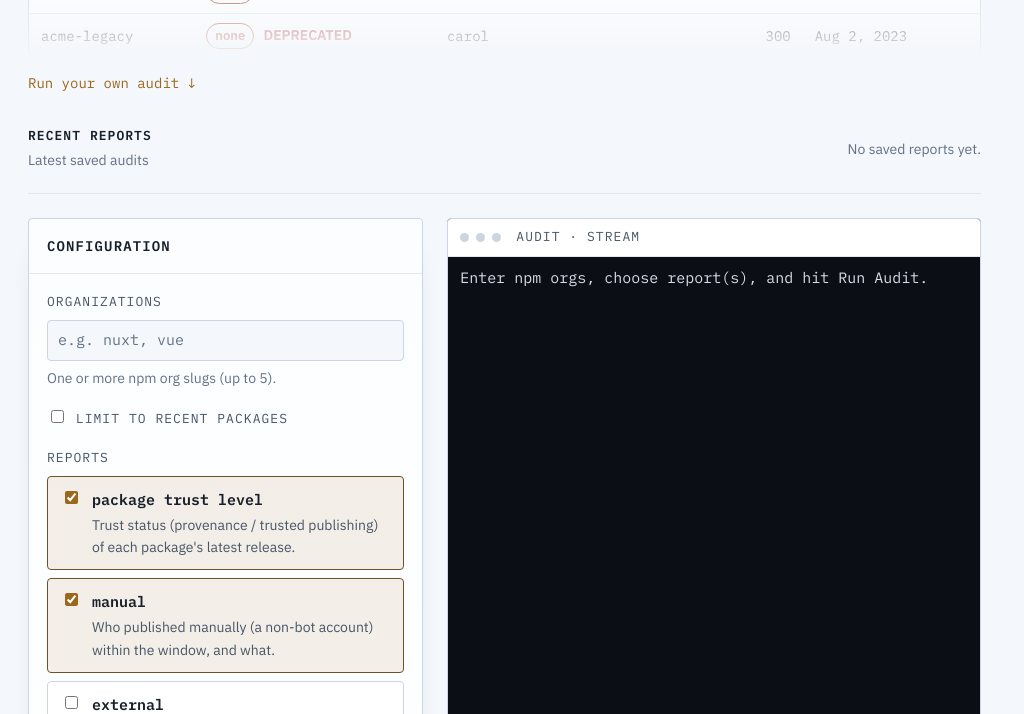
Test case: App › surfaces a server-side save failure inline
The width and height of the screenshot is (1024, 714).
(page scrolled)
Step 1. Type "netlify" into the field with placeholder "e.g. nuxt, vue" → [226, 340], box [56,327,395,354]
Then press Enter
(page scrolled)
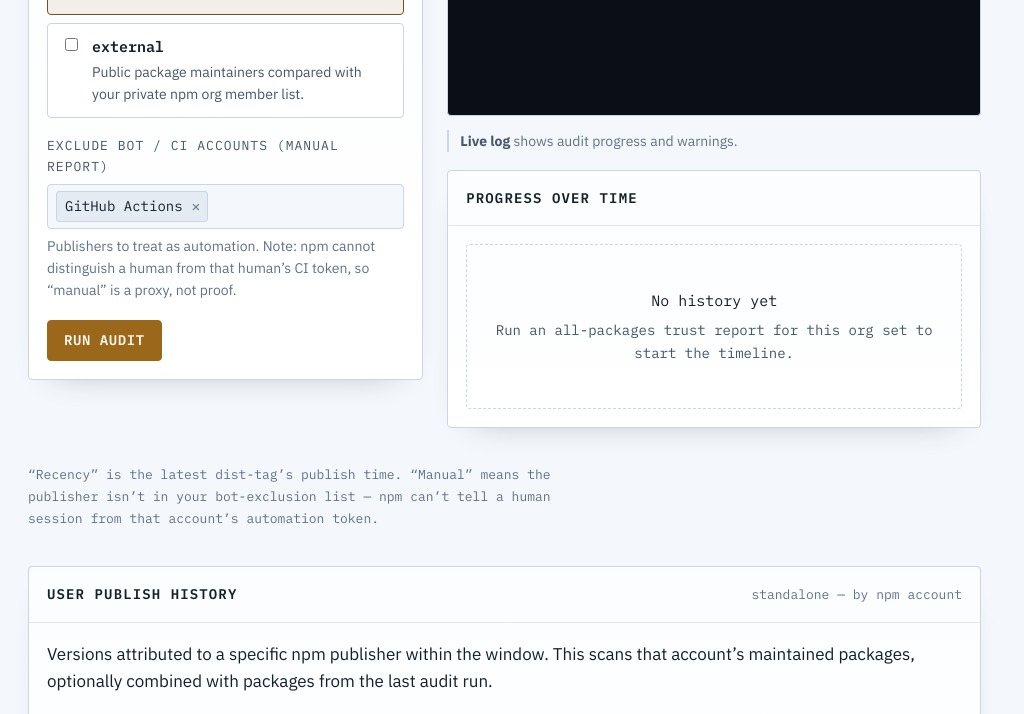
Step 2. Click the button "Run audit" → [104, 341], box [47,320,162,361]
(page scrolled)
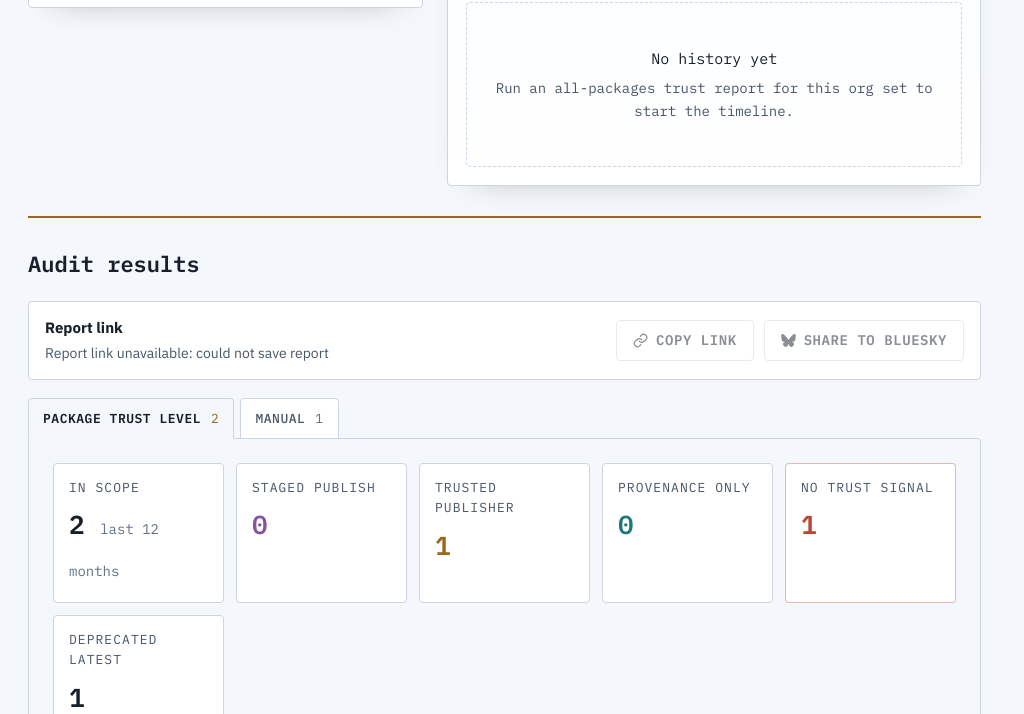
Now the heading "Audit results" is shown, box [28,246,200,281]
Now the text "Report link unavailable: could not save report" is shown, box [45,342,329,365]
Now the button "Copy link" is disabled, box [616,320,754,361]
